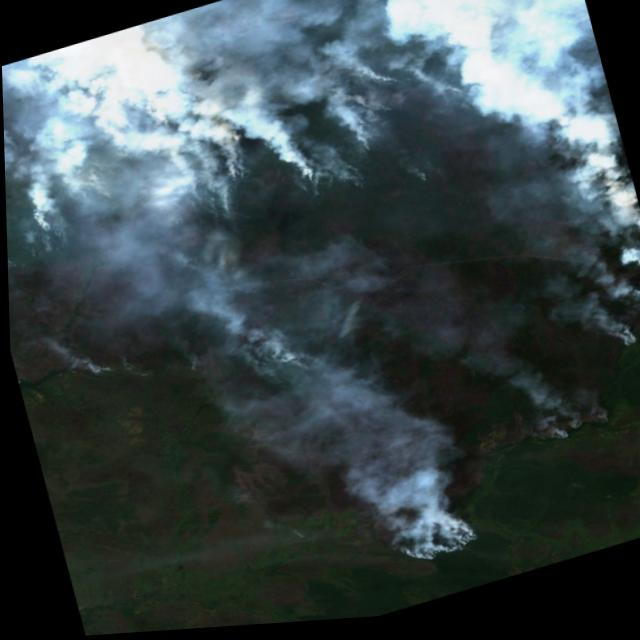fire: (1, 26, 343, 285), (474, 77, 640, 385), (374, 500, 491, 595)
